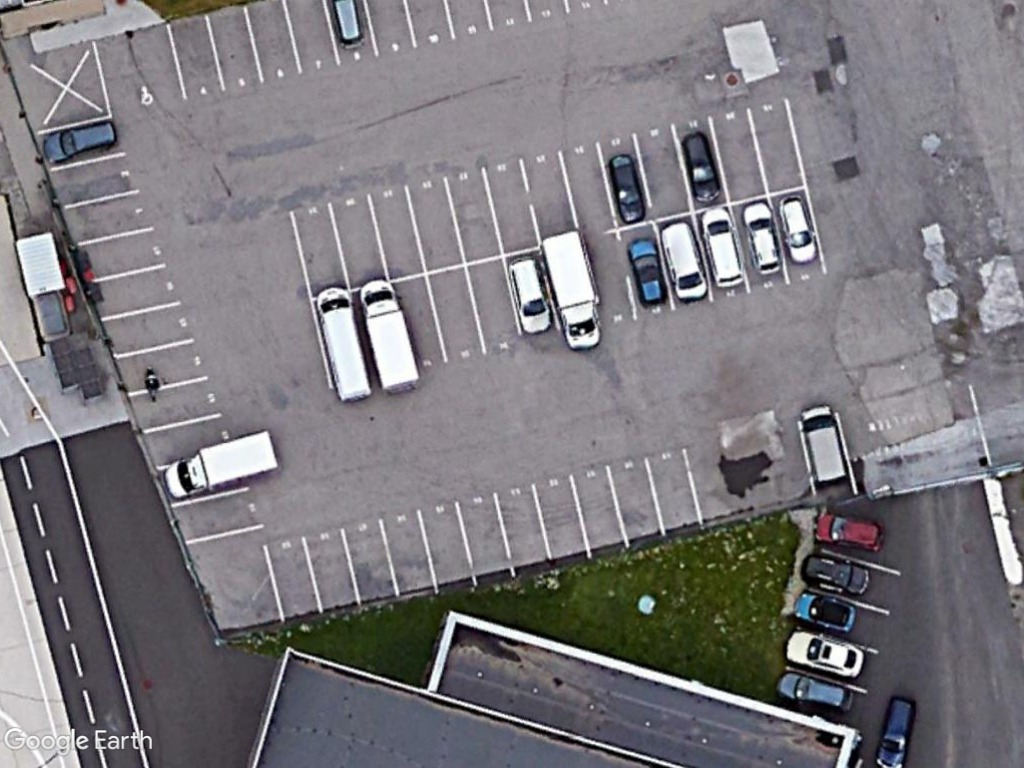car: (780, 629, 869, 681), (506, 251, 556, 337), (697, 206, 745, 292), (40, 116, 118, 167), (808, 509, 888, 557), (799, 549, 874, 600), (676, 127, 723, 207), (624, 233, 672, 310), (771, 670, 855, 714), (738, 199, 785, 277), (872, 695, 918, 768), (787, 587, 857, 632), (778, 192, 817, 267), (608, 149, 646, 225)
truck: (539, 222, 605, 353), (356, 272, 424, 395)
van: (162, 424, 280, 501), (312, 282, 372, 403), (657, 216, 711, 303), (797, 401, 851, 488)
